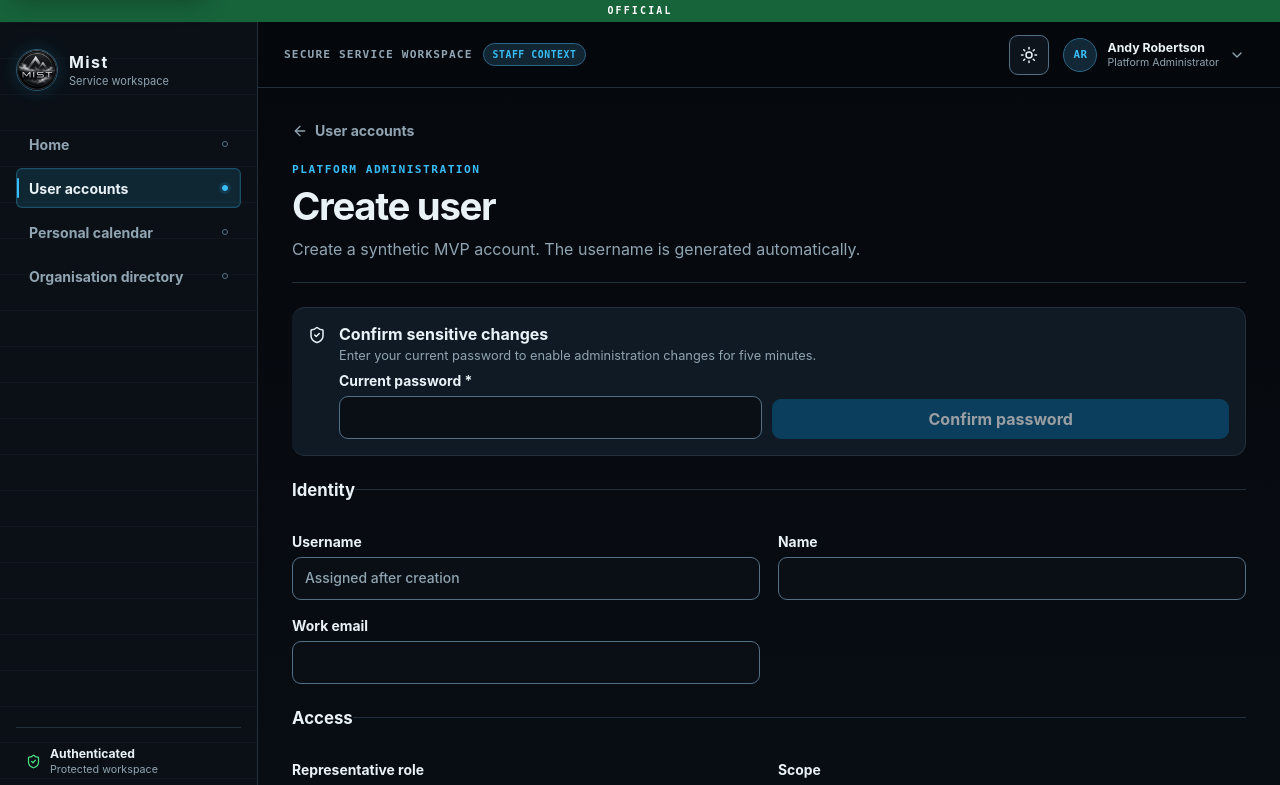
platform administrator access › unlocks sensitive controls only after fresh password confirmation
The image size is (1280, 785).
Type "admin" into the password field labelled "Current password *" at (551, 417), box x1=339 y1=396 x2=762 y2=439
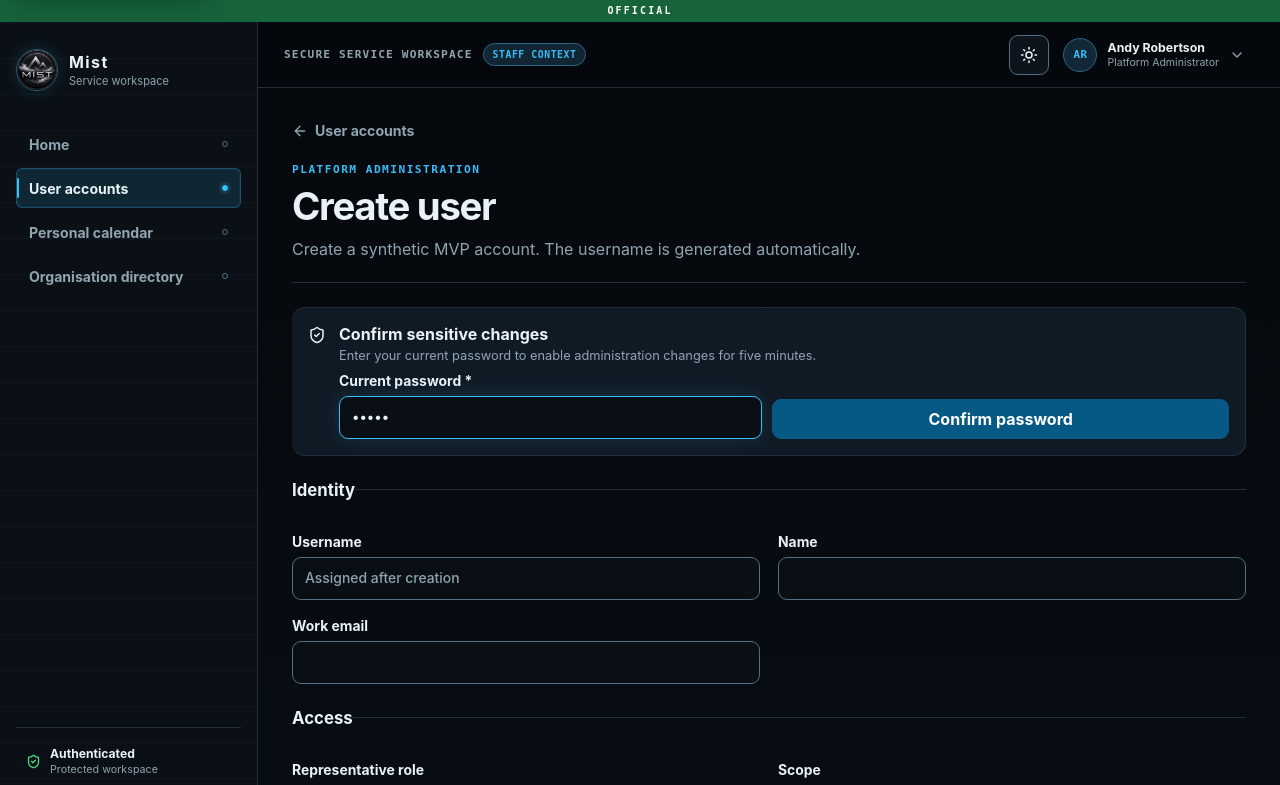
Click the button "Confirm password" at (1001, 419), box x1=772 y1=399 x2=1229 y2=439
(page scrolled)
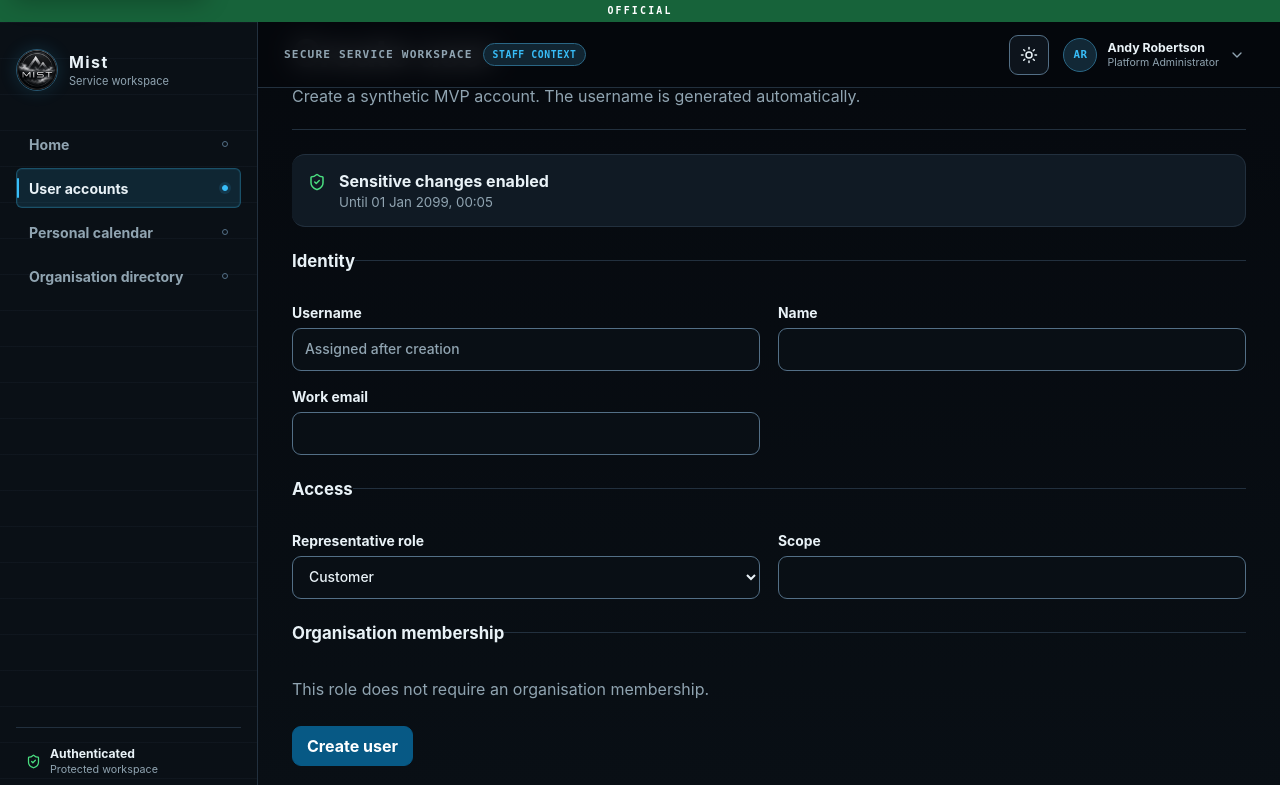
Now the text "Sensitive changes enabled" is shown, box x1=339 y1=171 x2=549 y2=191
Now the button "Create user" is enabled, box x1=292 y1=726 x2=413 y2=766
